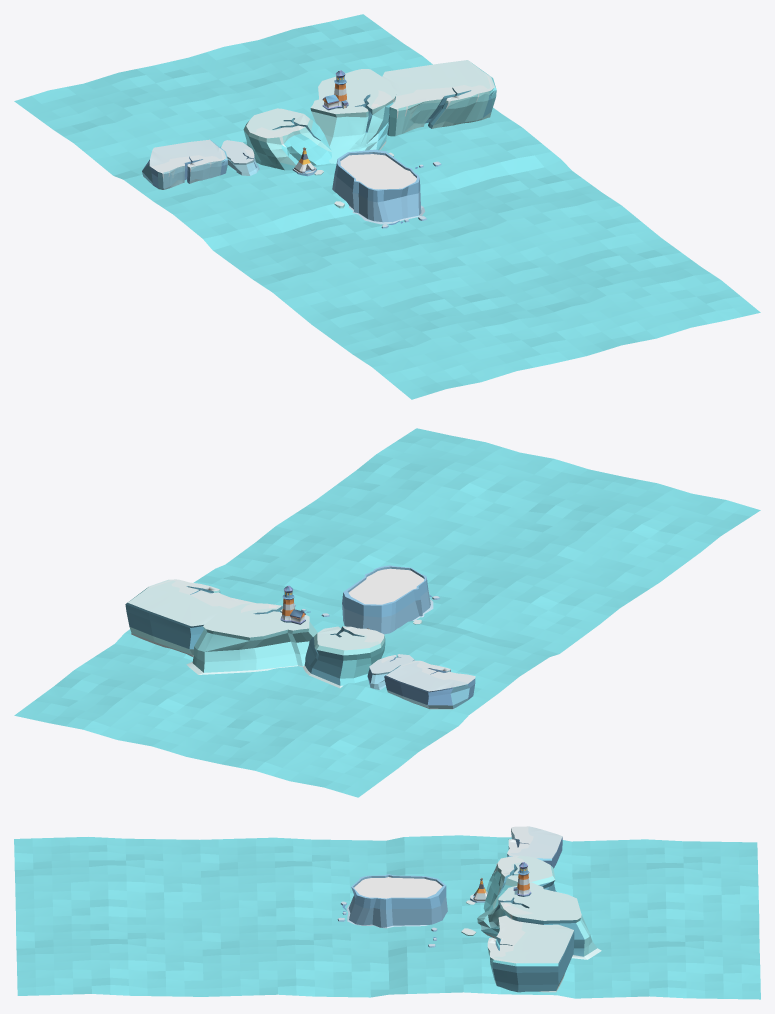
3 views of the same model, one above another, from view 1: azimuth 30°, elevation 25°; view 2: azimuth 150°, elevation 25°; view 3: azimuth 270°, elevation 25° (orthographic). The views are drawn at different scales.
Parts seen in each view (by area): view 1: IceDecor02_0, IceDecor02_0.001, IceArena_0; view 2: IceDecor02_0, IceDecor02_0.001, IceArena_0; view 3: IceDecor02_0, IceDecor02_0.001, IceArena_0, IceDecor02_0.003.
Boxes of the visible parts, x1,y1,x2,y2 form: IceDecor02_0: (14, 14, 760, 399); IceDecor02_0.001: (142, 60, 496, 189); IceArena_0: (332, 149, 425, 224); IceDecor02_0: (14, 428, 760, 797); IceDecor02_0.001: (125, 579, 475, 709); IceArena_0: (342, 565, 433, 634); IceDecor02_0: (14, 835, 760, 999); IceDecor02_0.001: (477, 826, 601, 992); IceArena_0: (342, 874, 447, 928); IceDecor02_0.003: (513, 862, 531, 896).
Size of the model in its own units: 2026 by 406 by 3985.
